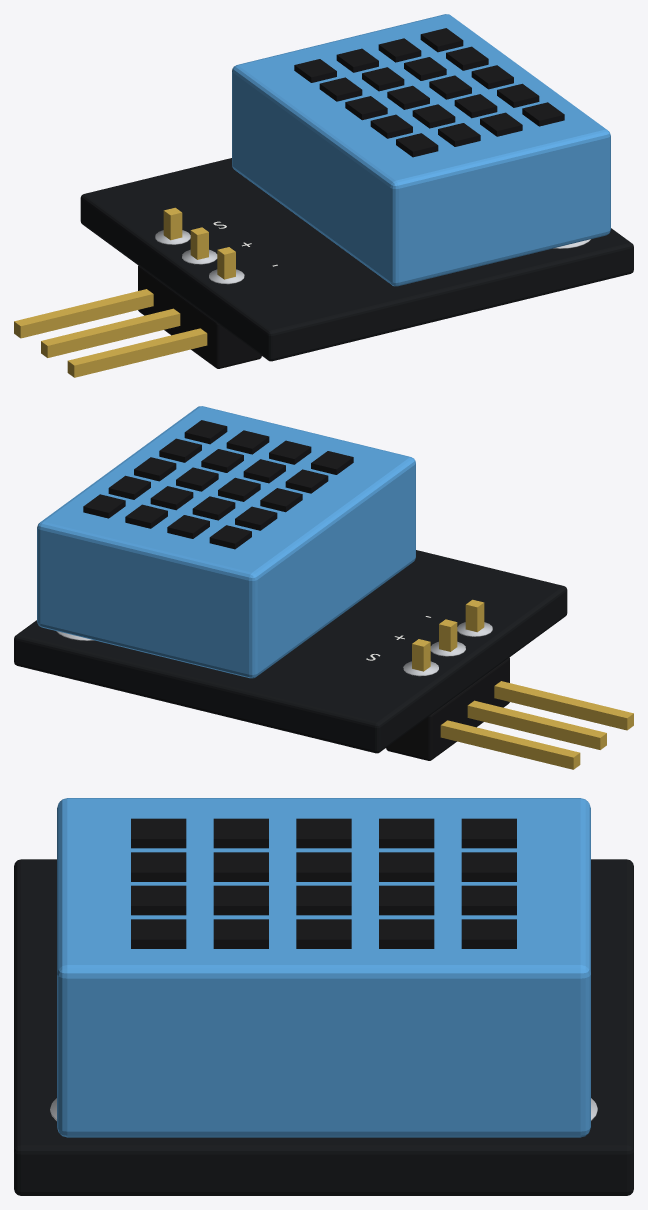
The model's file is temperature-humidity-sensor.glb.
The picture shows the model from 3 angles, top to bottom: view 1: azimuth 30°, elevation 25°; view 2: azimuth 150°, elevation 25°; view 3: azimuth 270°, elevation 25°; orthographic projection. The views are drawn at different scales.
Visible parts, largest first — view 1: part.008, pcb.005, header.005, pin_h.017, pin_h.015, pin_h.016, part.020, part.028, part.012, part.023, part.015, part.017 (+17 smaller); view 2: part.008, pcb.005, header.005, pin_h.015, pin_h.017, pin_h.016, part.022, part.024, part.010, part.019, part.017, part.015 (+17 smaller); view 3: part.008, pcb.005, part.011, part.021, part.009, part.010, part.012, part.013, part.019, part.020, part.022, part.023 (+10 smaller).
Part boxes in pixels (box(x1,y1,x2,y2)): part.008: box(232, 14, 610, 286); pcb.005: box(80, 158, 633, 361); header.005: box(138, 265, 261, 368); pin_h.017: box(67, 328, 207, 377); pin_h.015: box(14, 289, 153, 338); pin_h.016: box(41, 308, 180, 357); part.020: box(454, 94, 497, 118); part.028: box(420, 28, 463, 52); part.012: box(319, 77, 362, 101); part.023: box(378, 38, 421, 62); part.015: box(412, 104, 455, 128); part.017: box(362, 67, 404, 91); part.008: box(37, 406, 415, 678); pcb.005: box(14, 550, 567, 753); header.005: box(386, 657, 509, 760); pin_h.015: box(440, 720, 580, 769); pin_h.017: box(494, 681, 633, 730); pin_h.016: box(467, 700, 606, 749); part.022: box(150, 486, 193, 510); part.024: box(184, 420, 227, 444); part.010: box(285, 469, 328, 493); part.019: box(226, 430, 269, 454); part.017: box(192, 496, 235, 520); part.015: box(243, 459, 285, 483); part.008: box(57, 798, 590, 1137); pcb.005: box(14, 859, 633, 1195); part.011: box(296, 818, 351, 848); part.021: box(296, 885, 351, 915); part.009: box(131, 818, 186, 848); part.010: box(213, 818, 268, 848); part.012: box(379, 818, 434, 848); part.013: box(461, 818, 516, 848); part.019: box(131, 885, 186, 915); part.020: box(213, 885, 268, 915); part.022: box(379, 885, 434, 915); part.023: box(461, 885, 516, 915).
Bounding box in the file's own units: 0.0271 × 0.0099 × 0.018.
